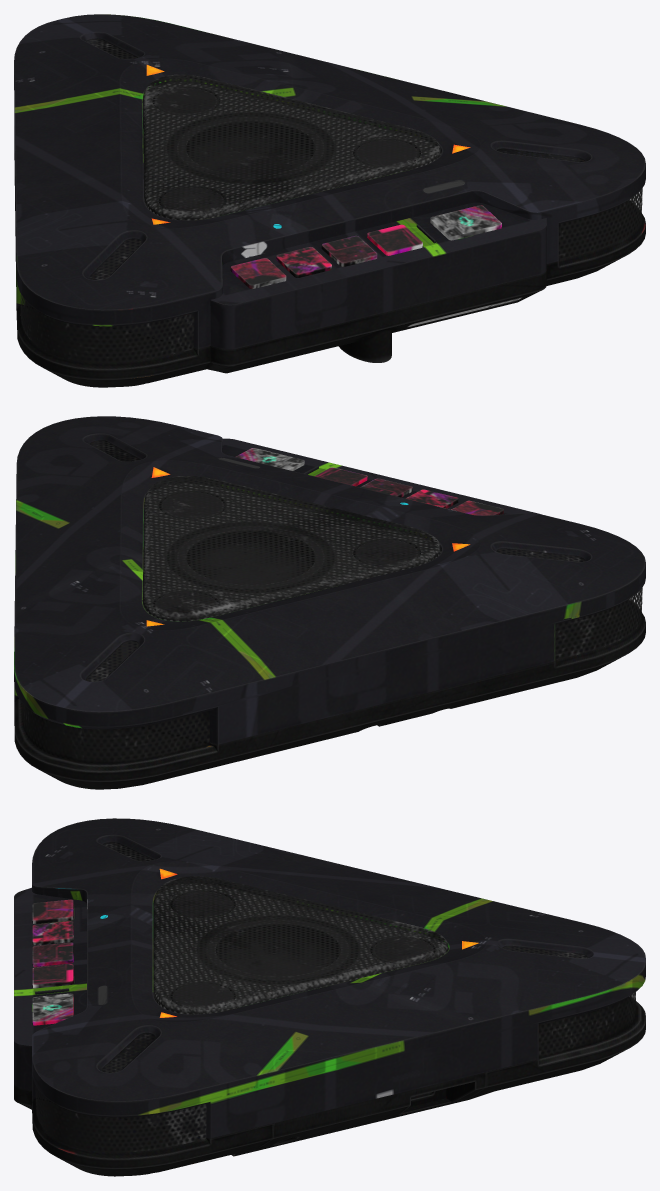
File: geothermal_vent_model_asset.glb
The picture shows the model from 3 angles, top to bottom: view 1: azimuth 30°, elevation 25°; view 2: azimuth 150°, elevation 25°; view 3: azimuth 270°, elevation 25°; orthographic projection. The views are drawn at different scales.
Parts seen in each view (by area): view 1: Conference.001_low_0, Conference.002_low_1, Conference.020_low_6, Conference.003_low_2, Conference.013_low_13, Conference.024_low_23, Conference.007_low_7, Conference.014_low_14, Conference.008_low_8, Conference.015_low_15, Conference.005_low_4; view 2: Conference.001_low_0, Conference.002_low_1, Conference.020_low_6, Conference.013_low_13, Conference.004_low_3, Conference.024_low_23, Conference.003_low_2, Conference.014_low_14, Conference.007_low_7, Conference.015_low_15, Conference.005_low_4, Conference.008_low_8 (+1 smaller); view 3: Conference.001_low_0, Conference.002_low_1, Conference.020_low_6, Conference.013_low_13, Conference.003_low_2, Conference.018_low_17, Conference.024_low_23, Conference.007_low_7, Conference.004_low_3, Conference.014_low_14, Conference.015_low_15, Conference.008_low_8 (+1 smaller).
Part boxes in pixels (x1,y1,x2,y2): Conference.001_low_0: (14, 14, 645, 349); Conference.002_low_1: (143, 74, 440, 220); Conference.020_low_6: (14, 153, 645, 387); Conference.003_low_2: (20, 188, 642, 362); Conference.013_low_13: (142, 82, 441, 220); Conference.024_low_23: (177, 117, 324, 179); Conference.007_low_7: (230, 224, 422, 289); Conference.014_low_14: (153, 88, 420, 214); Conference.008_low_8: (430, 205, 501, 240); Conference.015_low_15: (165, 112, 334, 184); Conference.005_low_4: (89, 148, 584, 279); Conference.001_low_0: (14, 416, 645, 744); Conference.002_low_1: (143, 476, 440, 621); Conference.020_low_6: (14, 600, 645, 789); Conference.013_low_13: (142, 483, 441, 621); Conference.004_low_3: (22, 703, 209, 763); Conference.024_low_23: (177, 526, 324, 588); Conference.003_low_2: (555, 587, 642, 660); Conference.014_low_14: (153, 492, 420, 618); Conference.007_low_7: (315, 467, 503, 515); Conference.015_low_15: (166, 521, 335, 593); Conference.005_low_4: (90, 440, 584, 561); Conference.008_low_8: (235, 448, 304, 470); Conference.001_low_0: (14, 818, 645, 1138); Conference.002_low_1: (154, 876, 447, 1014); Conference.020_low_6: (14, 996, 645, 1176); Conference.013_low_13: (153, 883, 448, 1014); Conference.003_low_2: (35, 1086, 206, 1152); Conference.018_low_17: (247, 1072, 486, 1153); Conference.024_low_23: (206, 920, 348, 980); Conference.007_low_7: (32, 899, 73, 988); Conference.004_low_3: (538, 992, 635, 1057); Conference.014_low_14: (170, 891, 435, 1009); Conference.015_low_15: (195, 915, 360, 984); Conference.008_low_8: (32, 993, 73, 1025).
Bounding box in the file's own units: 0.2562 × 0.0522 × 0.2416.
1 material, 1 textured.
